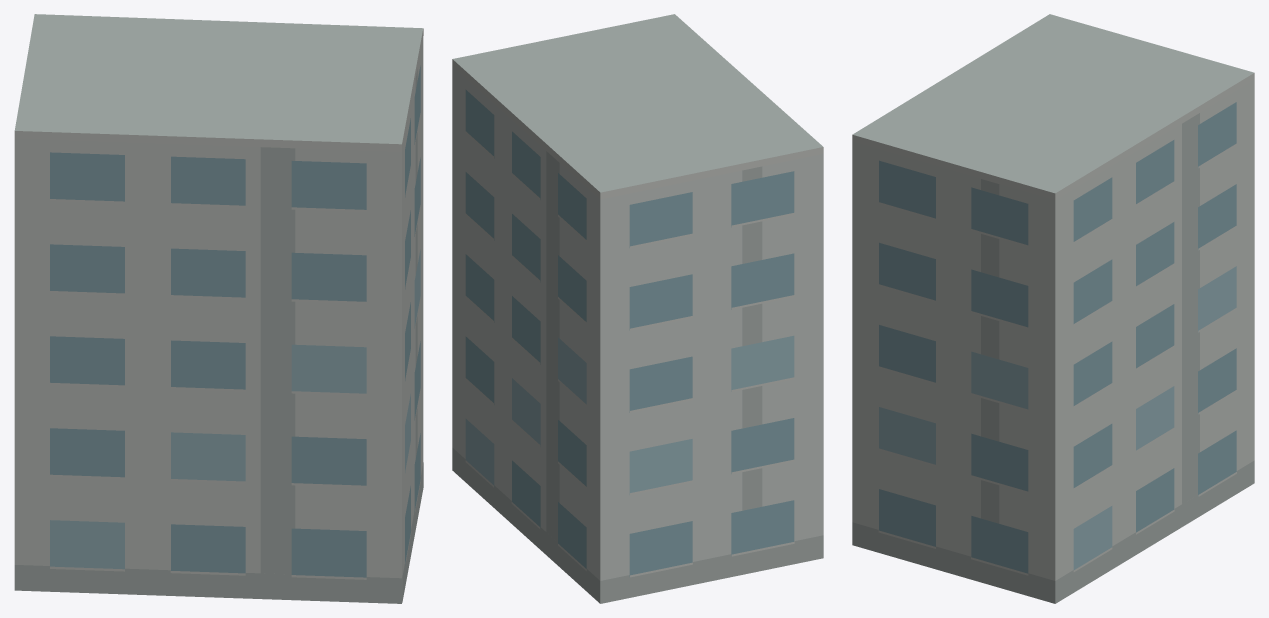
The model's file is survey-upis-32950692.glb.
3 views of the same model, side by side, from view 1: azimuth 30°, elevation 25°; view 2: azimuth 150°, elevation 25°; view 3: azimuth 270°, elevation 25° (orthographic). The views are drawn at different scales.
Visible parts, largest first — view 1: survey-upis-32950692.tmp; view 2: survey-upis-32950692.tmp; view 3: survey-upis-32950692.tmp.
Boxes of the visible parts, x1,y1,x2,y2 form: survey-upis-32950692.tmp: (14,14,423,603); survey-upis-32950692.tmp: (452,14,823,603); survey-upis-32950692.tmp: (852,14,1254,603).
Bounding box in the file's own units: 13.51 × 14.4 × 12.8.
